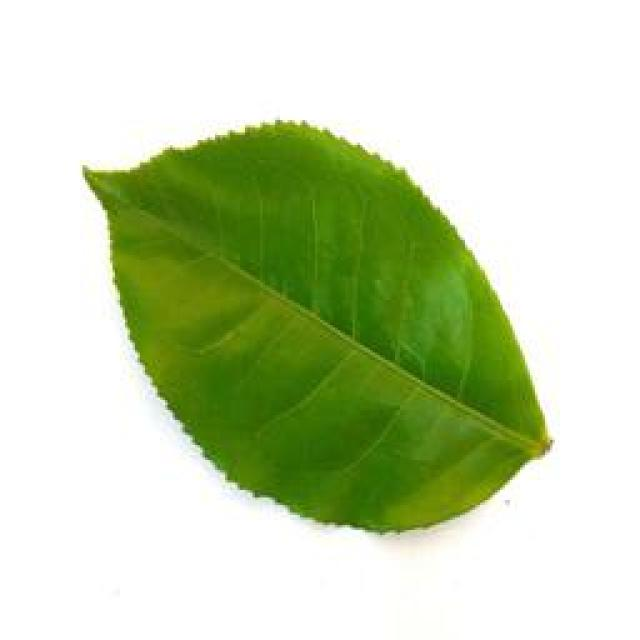Healthy: (81, 116, 560, 533)
